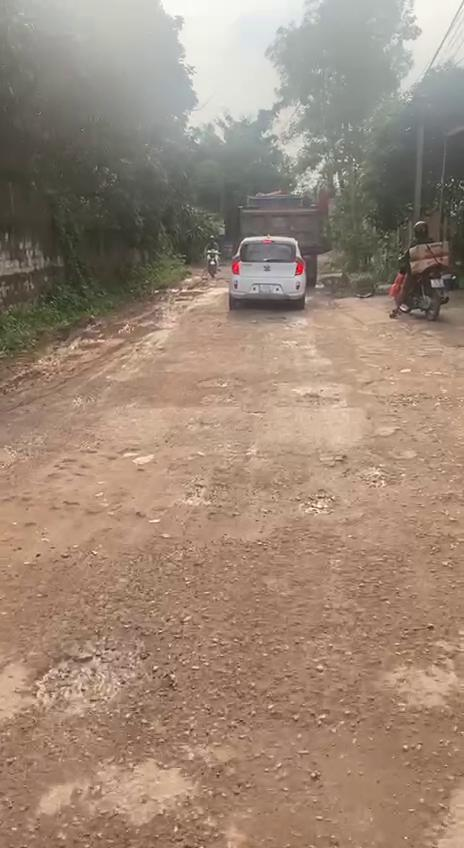pothole: (228, 706, 453, 848), (37, 628, 154, 730), (353, 461, 391, 492), (298, 490, 338, 518), (184, 480, 213, 508)
